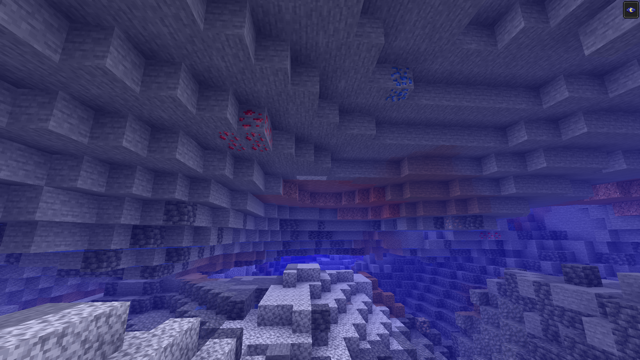iron: (444, 212, 464, 231)
lapis: (388, 64, 414, 104)
redstone: (217, 102, 272, 156), (479, 229, 502, 242)
